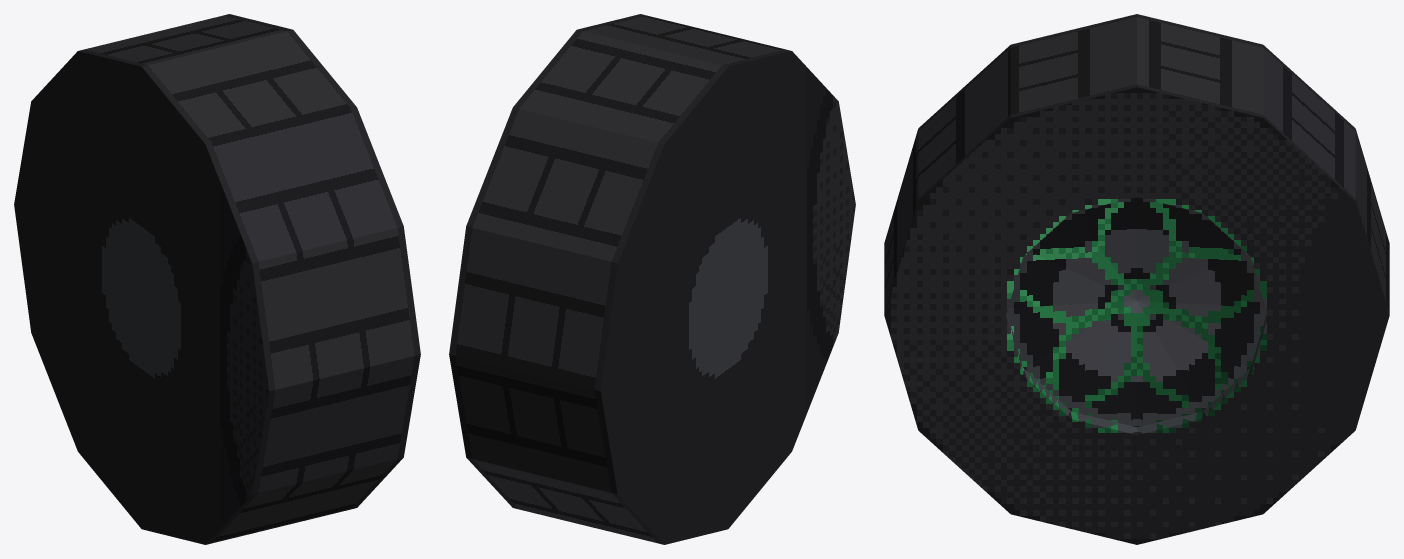
File: wheel_ysp.glb
3 views of the same model, side by side, from view 1: azimuth 30°, elevation 25°; view 2: azimuth 150°, elevation 25°; view 3: azimuth 270°, elevation 25° (orthographic).
Parts seen in each view (by area): view 1: wheel_ysp; view 2: wheel_ysp; view 3: wheel_ysp.
Part boxes in pixels (box(x1,y1,x2,y2)): wheel_ysp: box(14, 14, 420, 544); wheel_ysp: box(449, 14, 855, 544); wheel_ysp: box(884, 14, 1389, 544).
Size of the model in its own units: 0.285 by 0.8308 by 0.8308.
Materials: 1 (1 with a texture image).
